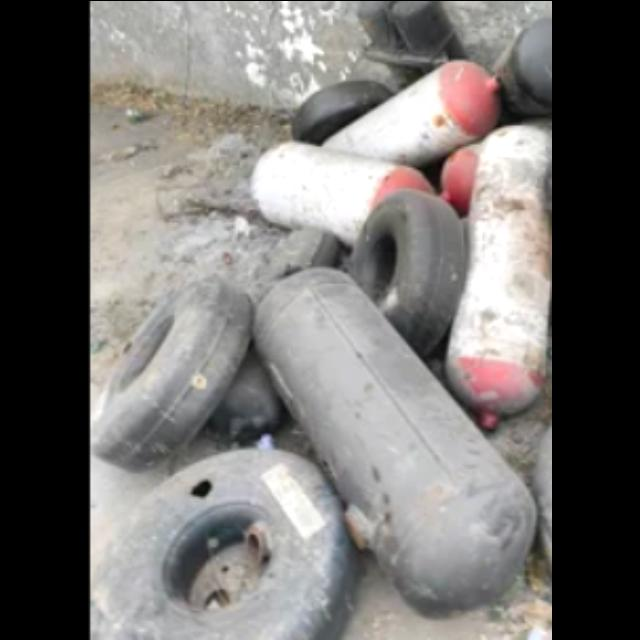Cylinders: (441, 118, 551, 428), (244, 134, 447, 238), (321, 59, 509, 166)
